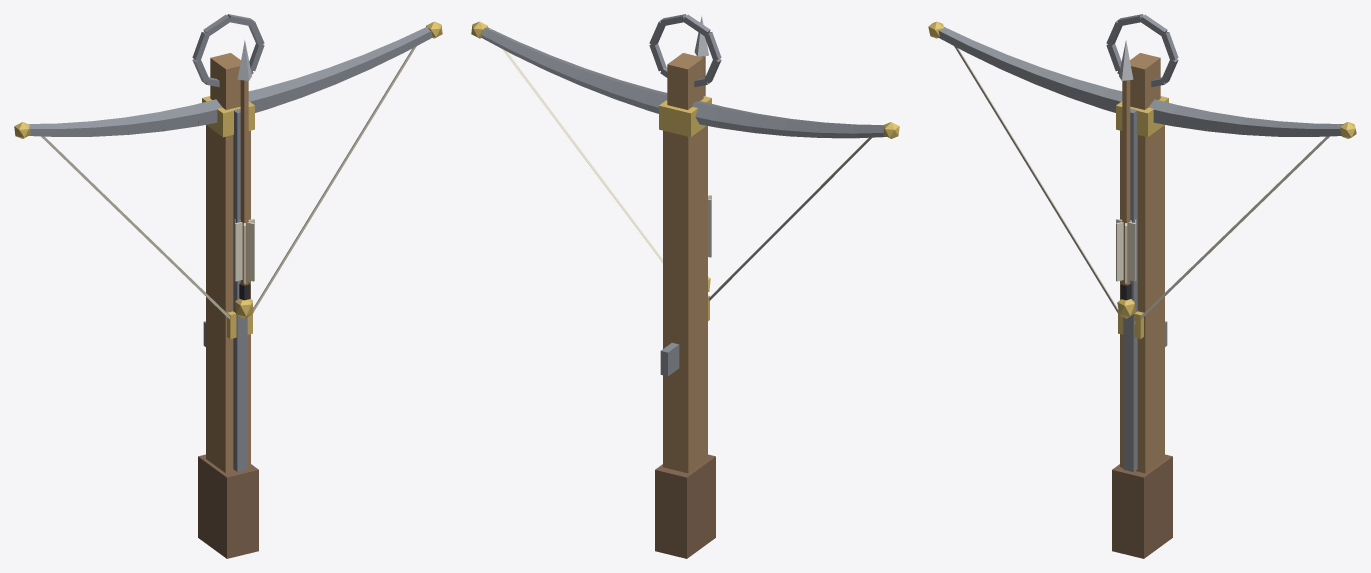
Rendered from Weapon_Crossbow.glb.
The picture shows the model from 3 angles, left to right: view 1: azimuth 30°, elevation 25°; view 2: azimuth 150°, elevation 25°; view 3: azimuth 330°, elevation 25°; orthographic projection.
Visible parts, largest first — view 1: Crossbow; view 2: Crossbow; view 3: Crossbow.
Boxes of the visible parts, box(x1,y1,x2,y2) form: Crossbow: box(14, 14, 442, 558); Crossbow: box(471, 14, 899, 558); Crossbow: box(928, 14, 1356, 558).
Bounding box in the file's own units: 0.9322 × 1.11 × 0.1612.
